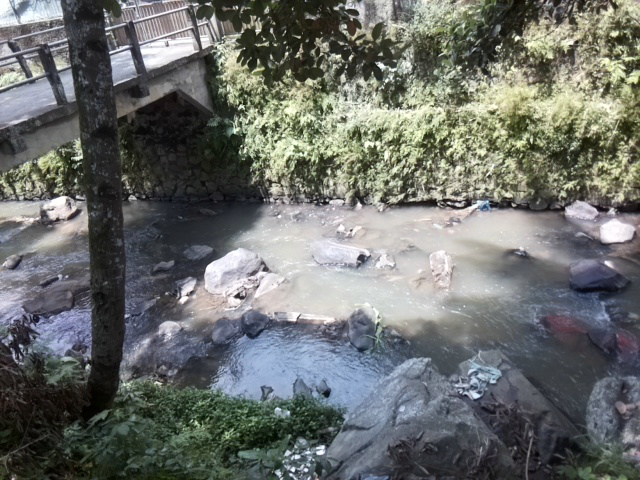Sampah_Plastik: (457, 362, 507, 398), (478, 198, 493, 213)
